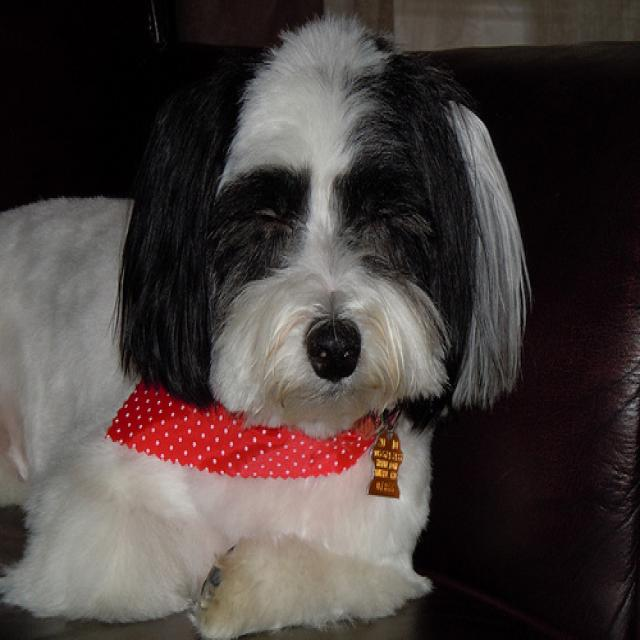dog-havanese: (1, 2, 536, 637)
